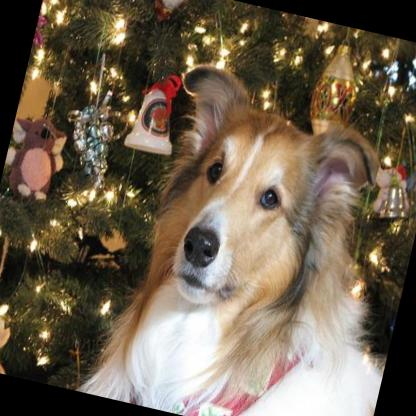collie: (74, 52, 416, 416)
